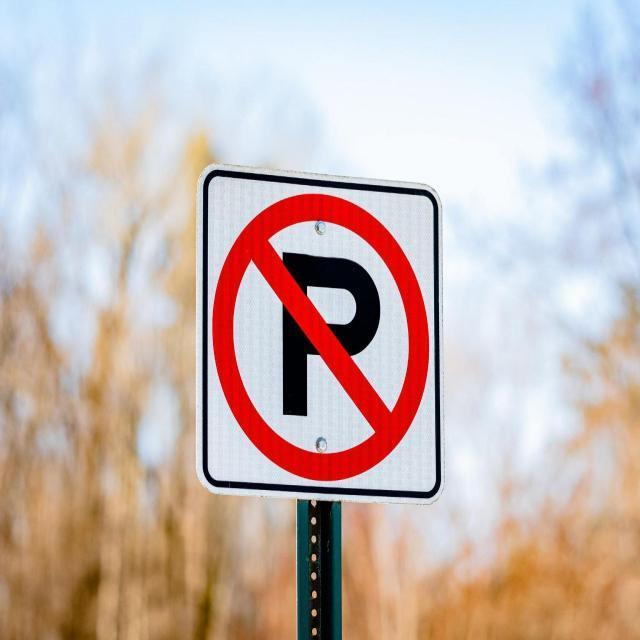no parking: (209, 192, 435, 486)
